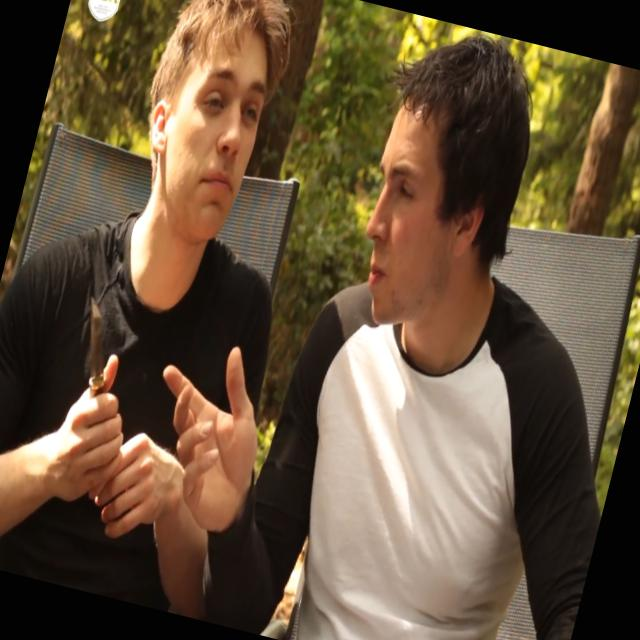knife: (47, 264, 162, 458)
